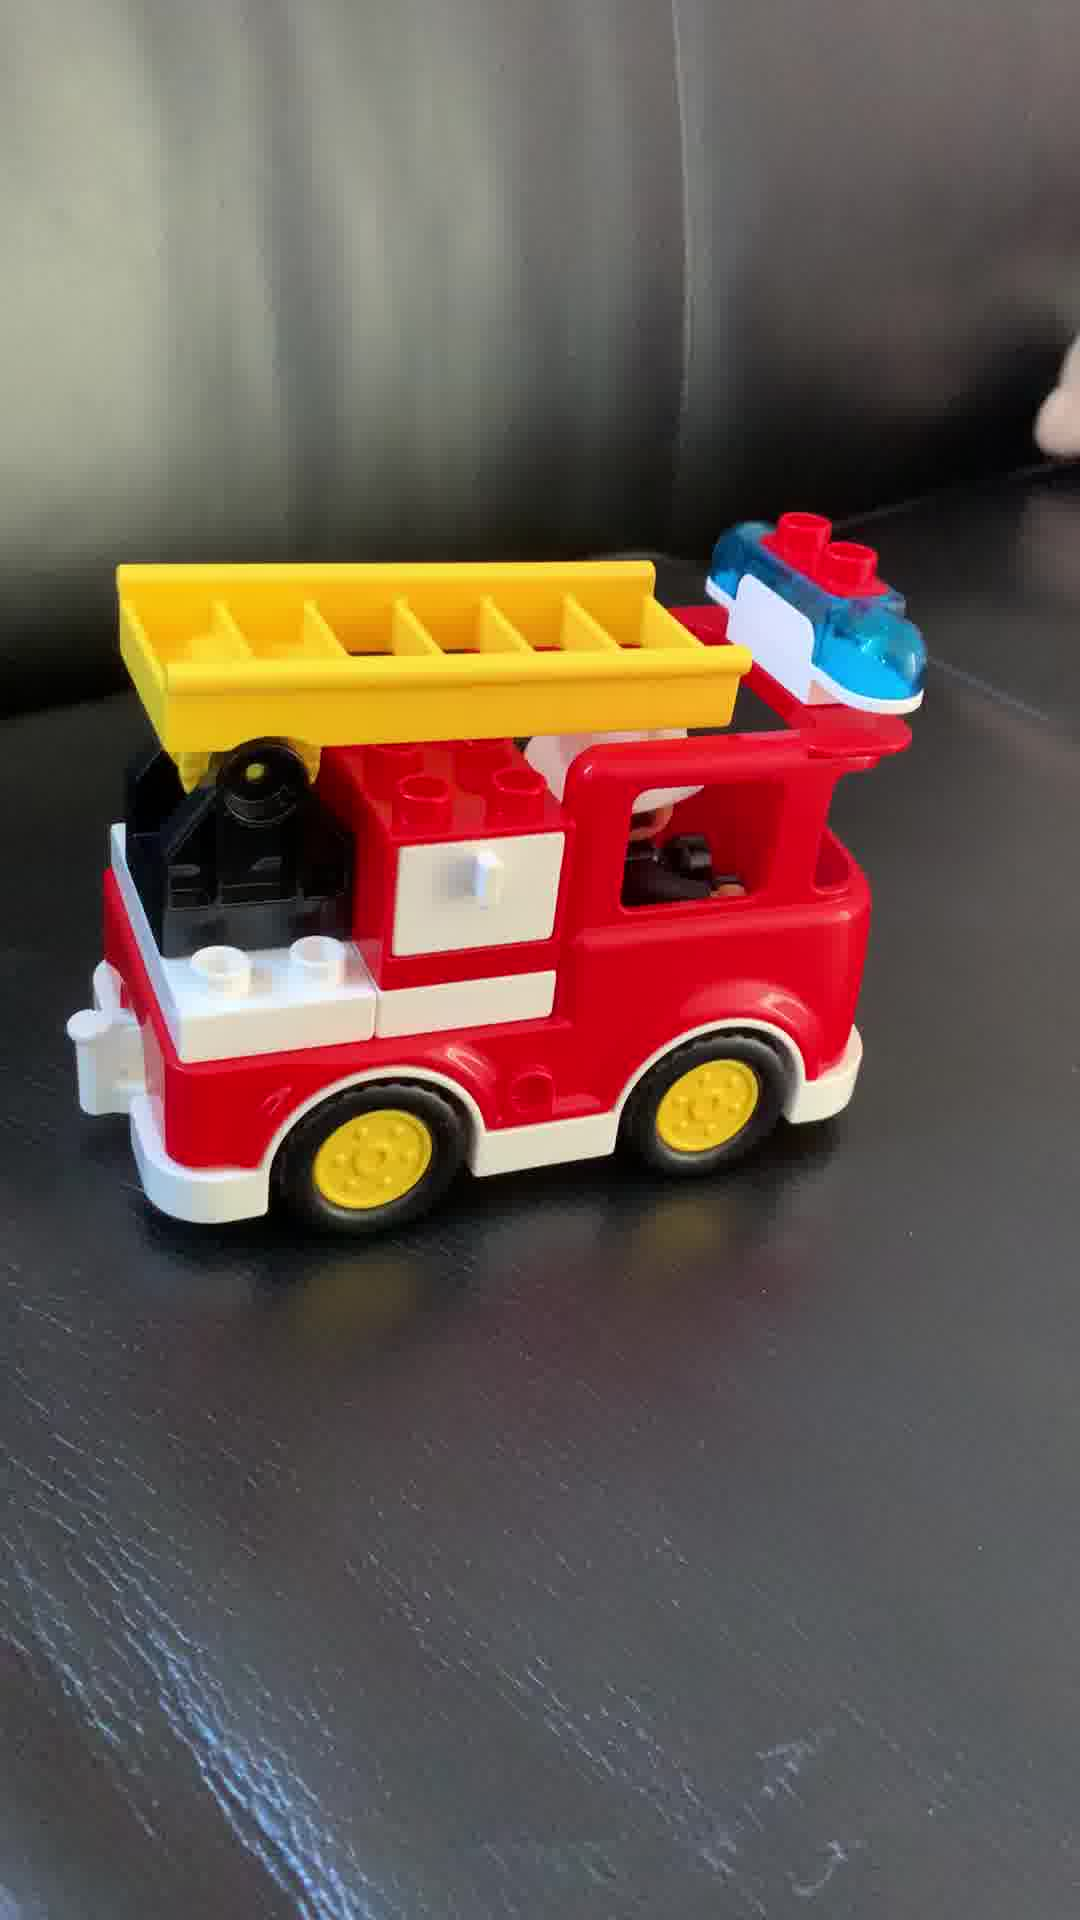lego fire truck: (71, 496, 930, 1251)
